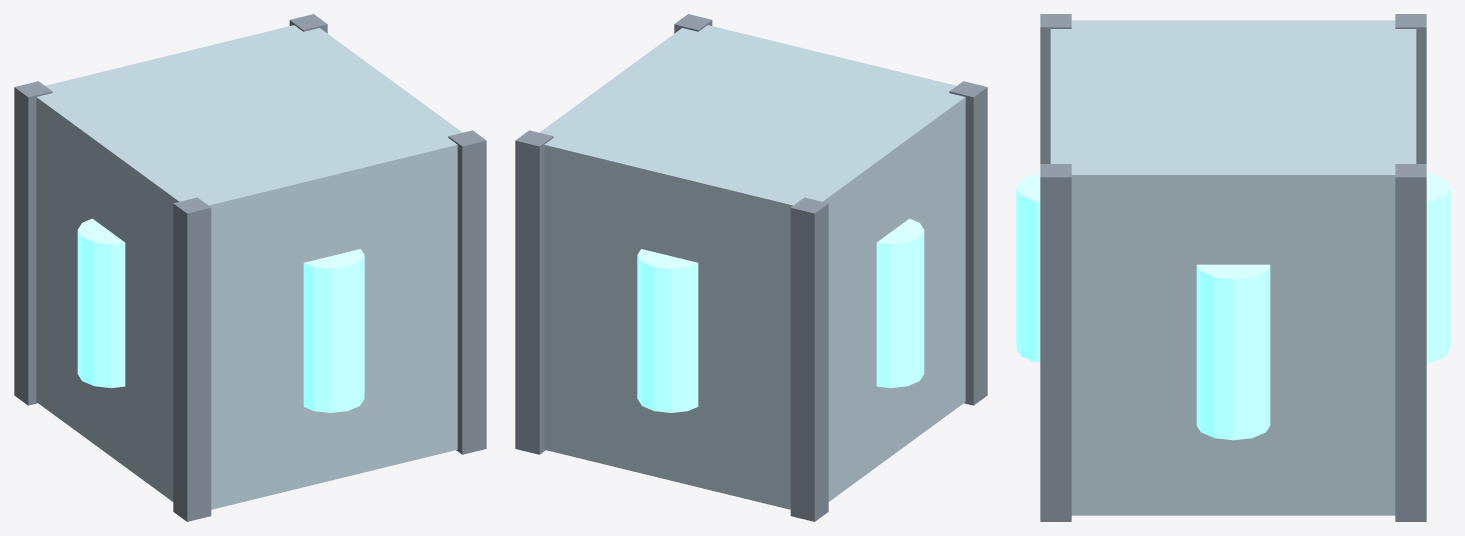
The model's file is breakable-block-ice.glb.
3 views of the same model, side by side, from view 1: azimuth 30°, elevation 25°; view 2: azimuth 150°, elevation 25°; view 3: azimuth 270°, elevation 25° (orthographic). The views are drawn at different scales.
Parts seen in each view (by area): view 1: Cube, Cube.001, Cube.003, Ice_Canister_180, Ice_Canister_270, Cube.002; view 2: Cube, Cube.002, Cube.004, Ice_Canister_0, Ice_Canister_270, Cube.001; view 3: Cube, Ice_Canister_90, Cube.003, Cube.004, Ice_Canister_0, Ice_Canister_180, Cube.001, Cube.002.
Part boxes in pixels (x1,y1,x2,y2): Cube: (36, 25, 462, 509); Cube.001: (173, 197, 211, 521); Cube.003: (448, 130, 486, 454); Ice_Canister_180: (303, 249, 364, 412); Ice_Canister_270: (77, 218, 125, 388); Cube.002: (14, 81, 52, 405); Cube: (539, 25, 965, 509); Cube.002: (790, 197, 828, 521); Cube.004: (515, 130, 553, 454); Ice_Canister_0: (637, 249, 698, 412); Ice_Canister_270: (876, 218, 924, 388); Cube.001: (949, 81, 987, 405); Cube: (1050, 20, 1416, 515); Ice_Canister_90: (1196, 264, 1270, 440); Cube.003: (1040, 164, 1071, 521); Cube.004: (1395, 164, 1426, 521); Ice_Canister_0: (1426, 173, 1450, 362); Ice_Canister_180: (1016, 173, 1040, 362); Cube.001: (1040, 14, 1071, 163); Cube.002: (1395, 14, 1426, 163).
Bounding box in the file's own units: 2.08 × 1.82 × 2.08.
